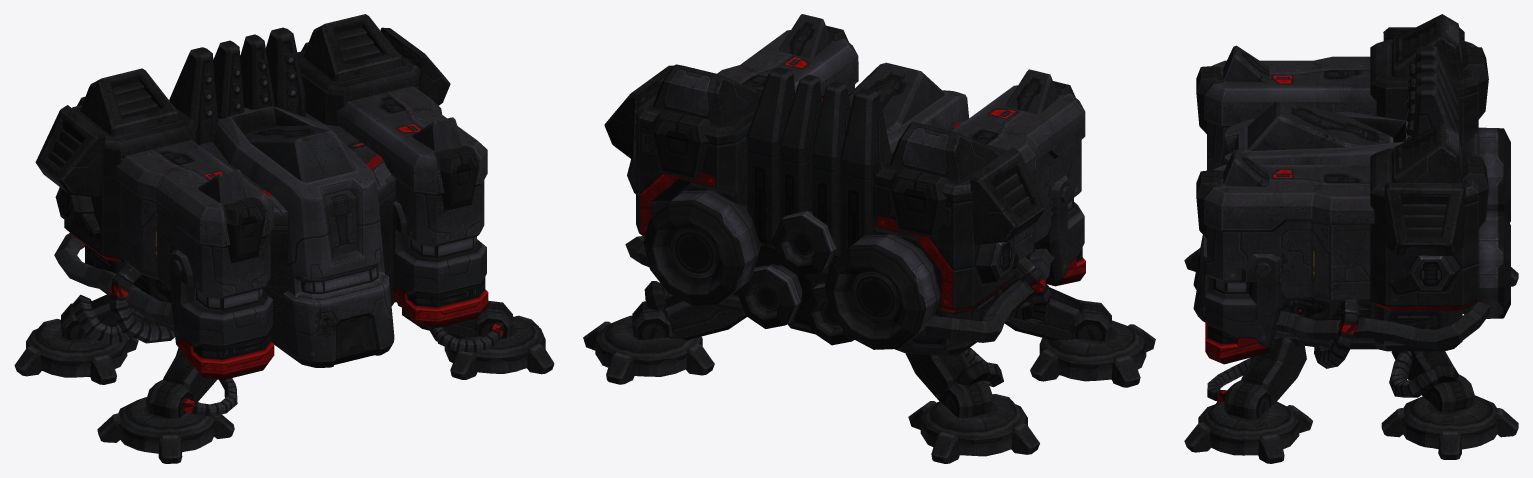
Rendered from Baracks.obj.
3 views of the same model, side by side, from view 1: azimuth 30°, elevation 25°; view 2: azimuth 150°, elevation 25°; view 3: azimuth 270°, elevation 25° (orthographic). The views are drawn at different scales.
Visible parts, largest first — view 1: Shadow_Barracks.m3; view 2: Shadow_Barracks.m3; view 3: Shadow_Barracks.m3.
Part boxes in pixels (x1,y1,x2,y2): Shadow_Barracks.m3: (14, 14, 554, 463); Shadow_Barracks.m3: (583, 14, 1155, 463); Shadow_Barracks.m3: (1184, 14, 1518, 463).
Bounding box in the file's own units: 4.29 × 2.69 × 2.81.
Materials: 1 (1 with a texture image).
